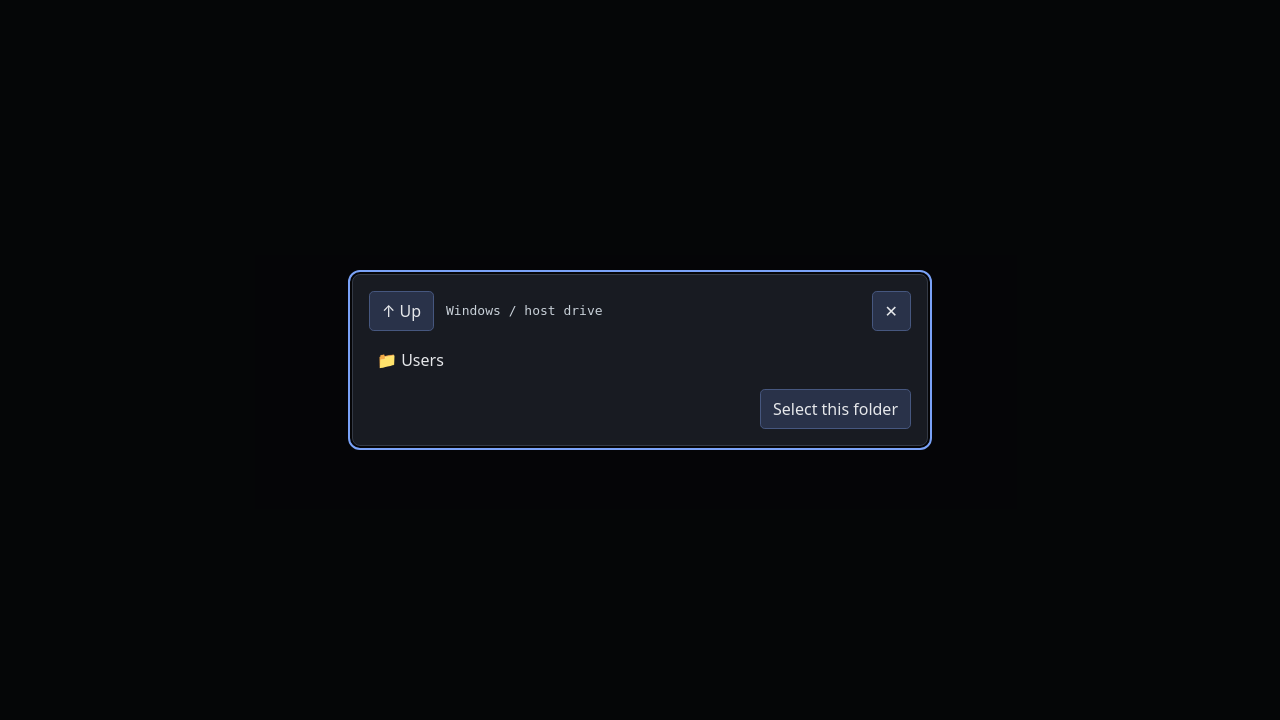
it: ascending to the roots disables select and shows friendly mount labels
Expected: the button "📁 Users" is shown, [369,343,911,377]
Click the button "↑ Up" at (402, 311), box [369,291,434,331]
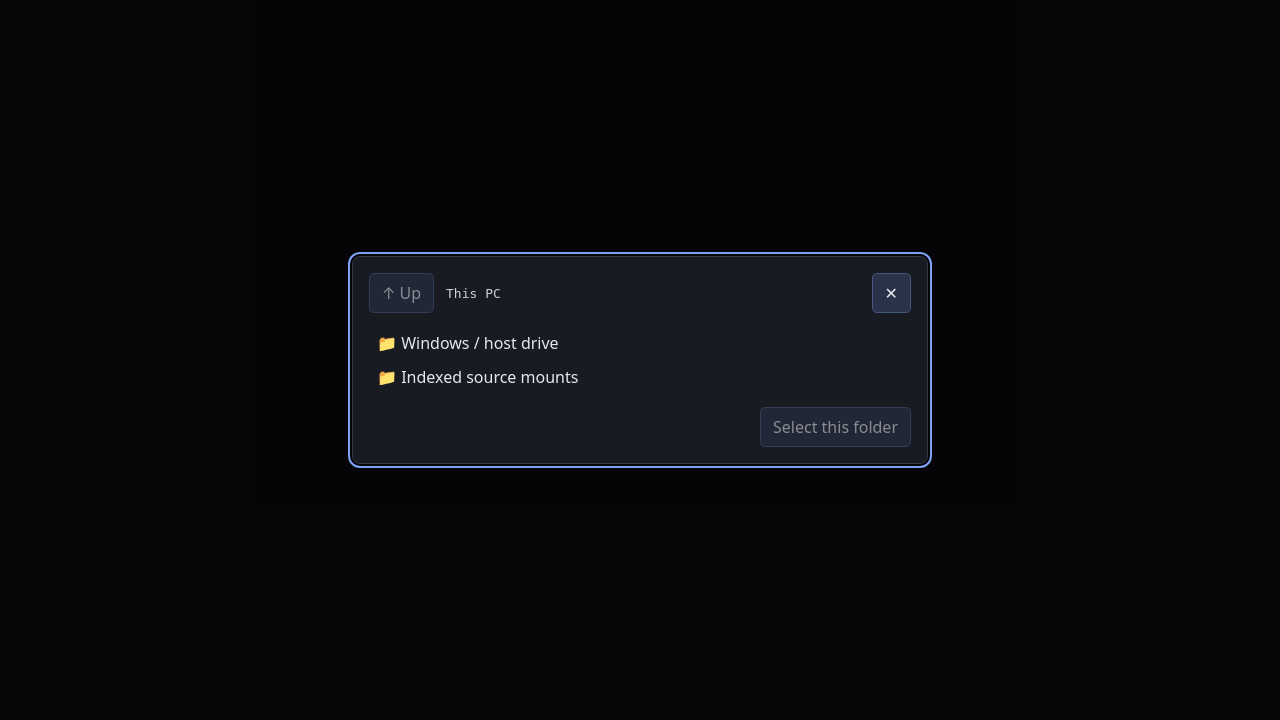
Result: the button "📁 Windows / host drive" is shown at [369,325,911,360]
Result: the button "Select this folder" is disabled at [760,407,911,447]
